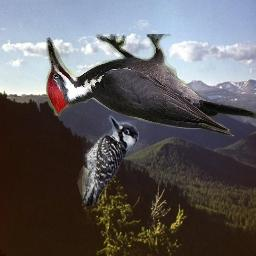Woodpecker: (46, 34, 256, 137), (66, 114, 139, 206)
